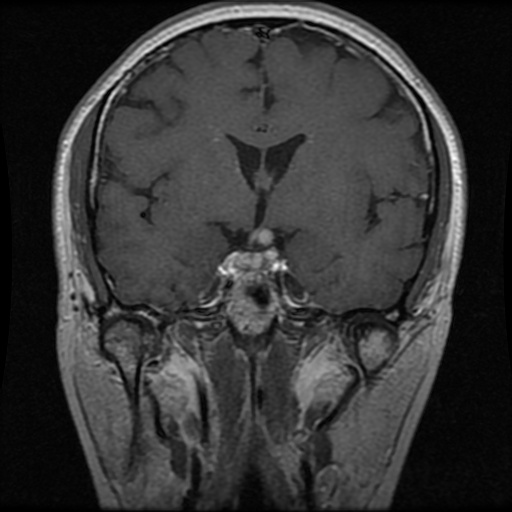pituitary: (234, 227, 277, 267)
